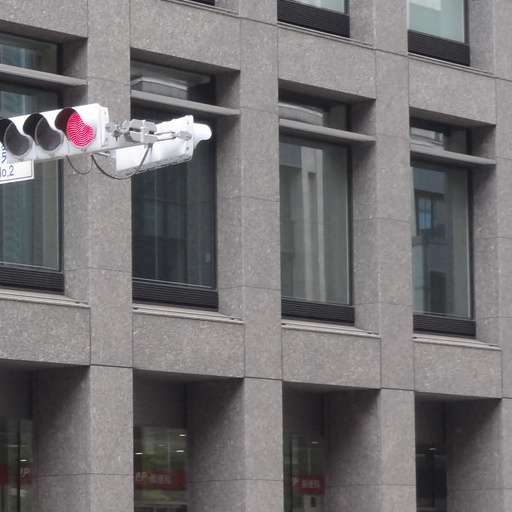Traffic_Signal_Red: (1, 98, 121, 171)
